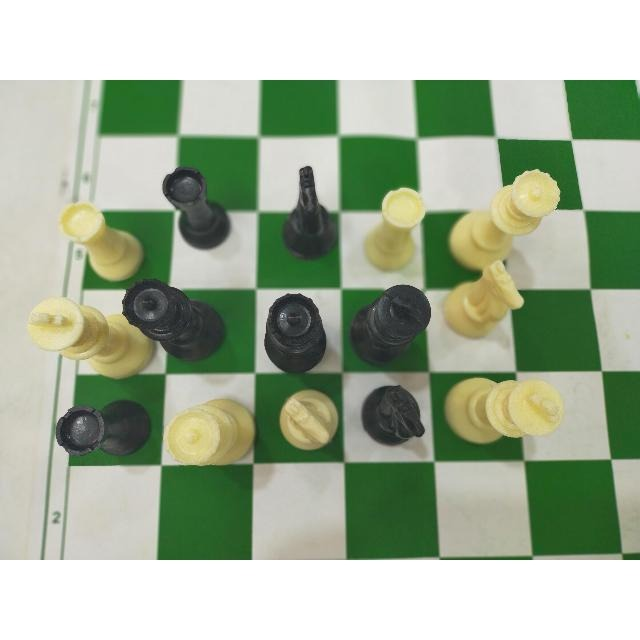black-king: (347, 281, 434, 369)
black-knight: (280, 164, 338, 265), (355, 380, 429, 448)
black-queen: (119, 275, 227, 362), (263, 290, 331, 374)
black-rook: (159, 161, 235, 253), (54, 394, 156, 460)
white-king: (22, 295, 157, 385), (441, 375, 566, 449)
white-knight: (440, 258, 528, 344), (275, 386, 340, 458)
white-queen: (447, 164, 565, 274), (160, 393, 258, 471)
white-rook: (56, 199, 145, 285), (359, 181, 429, 274)
